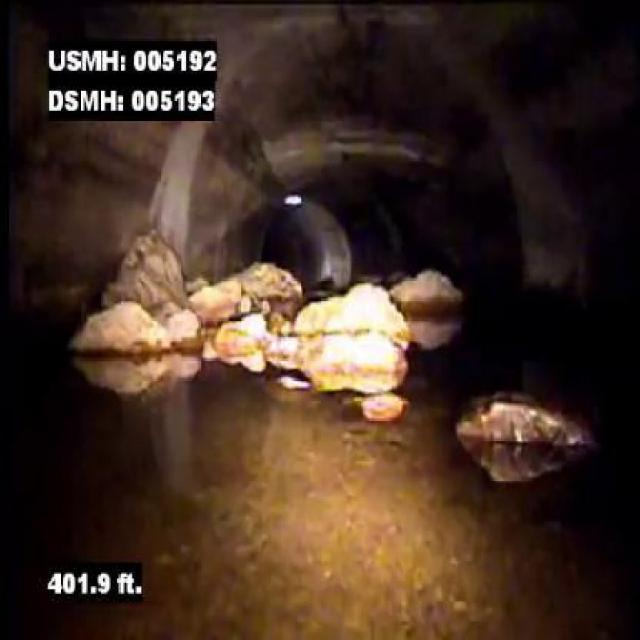Debris: (457, 386, 591, 457)
Obstacle: (78, 224, 411, 413)
